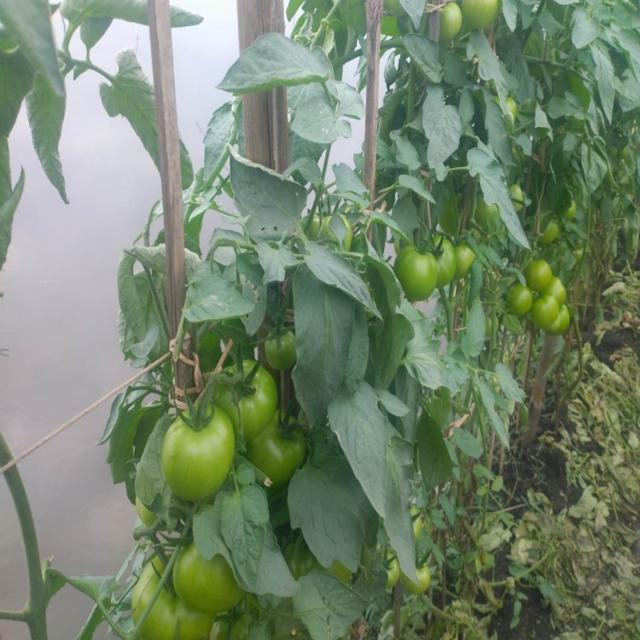tomato: (135, 556, 223, 640), (166, 407, 233, 504), (219, 359, 275, 437), (178, 547, 246, 608), (255, 416, 309, 484), (397, 244, 435, 305), (425, 233, 457, 288), (525, 254, 557, 294), (266, 331, 296, 369), (462, 1, 506, 26), (502, 282, 532, 315), (442, 5, 466, 41), (532, 296, 558, 329), (408, 561, 431, 596), (310, 212, 338, 239), (379, 553, 400, 584), (459, 243, 477, 276), (405, 507, 422, 539), (548, 280, 569, 305), (557, 308, 574, 336), (476, 194, 493, 221), (515, 185, 528, 210), (543, 224, 557, 246), (567, 199, 580, 221), (505, 101, 519, 115)
